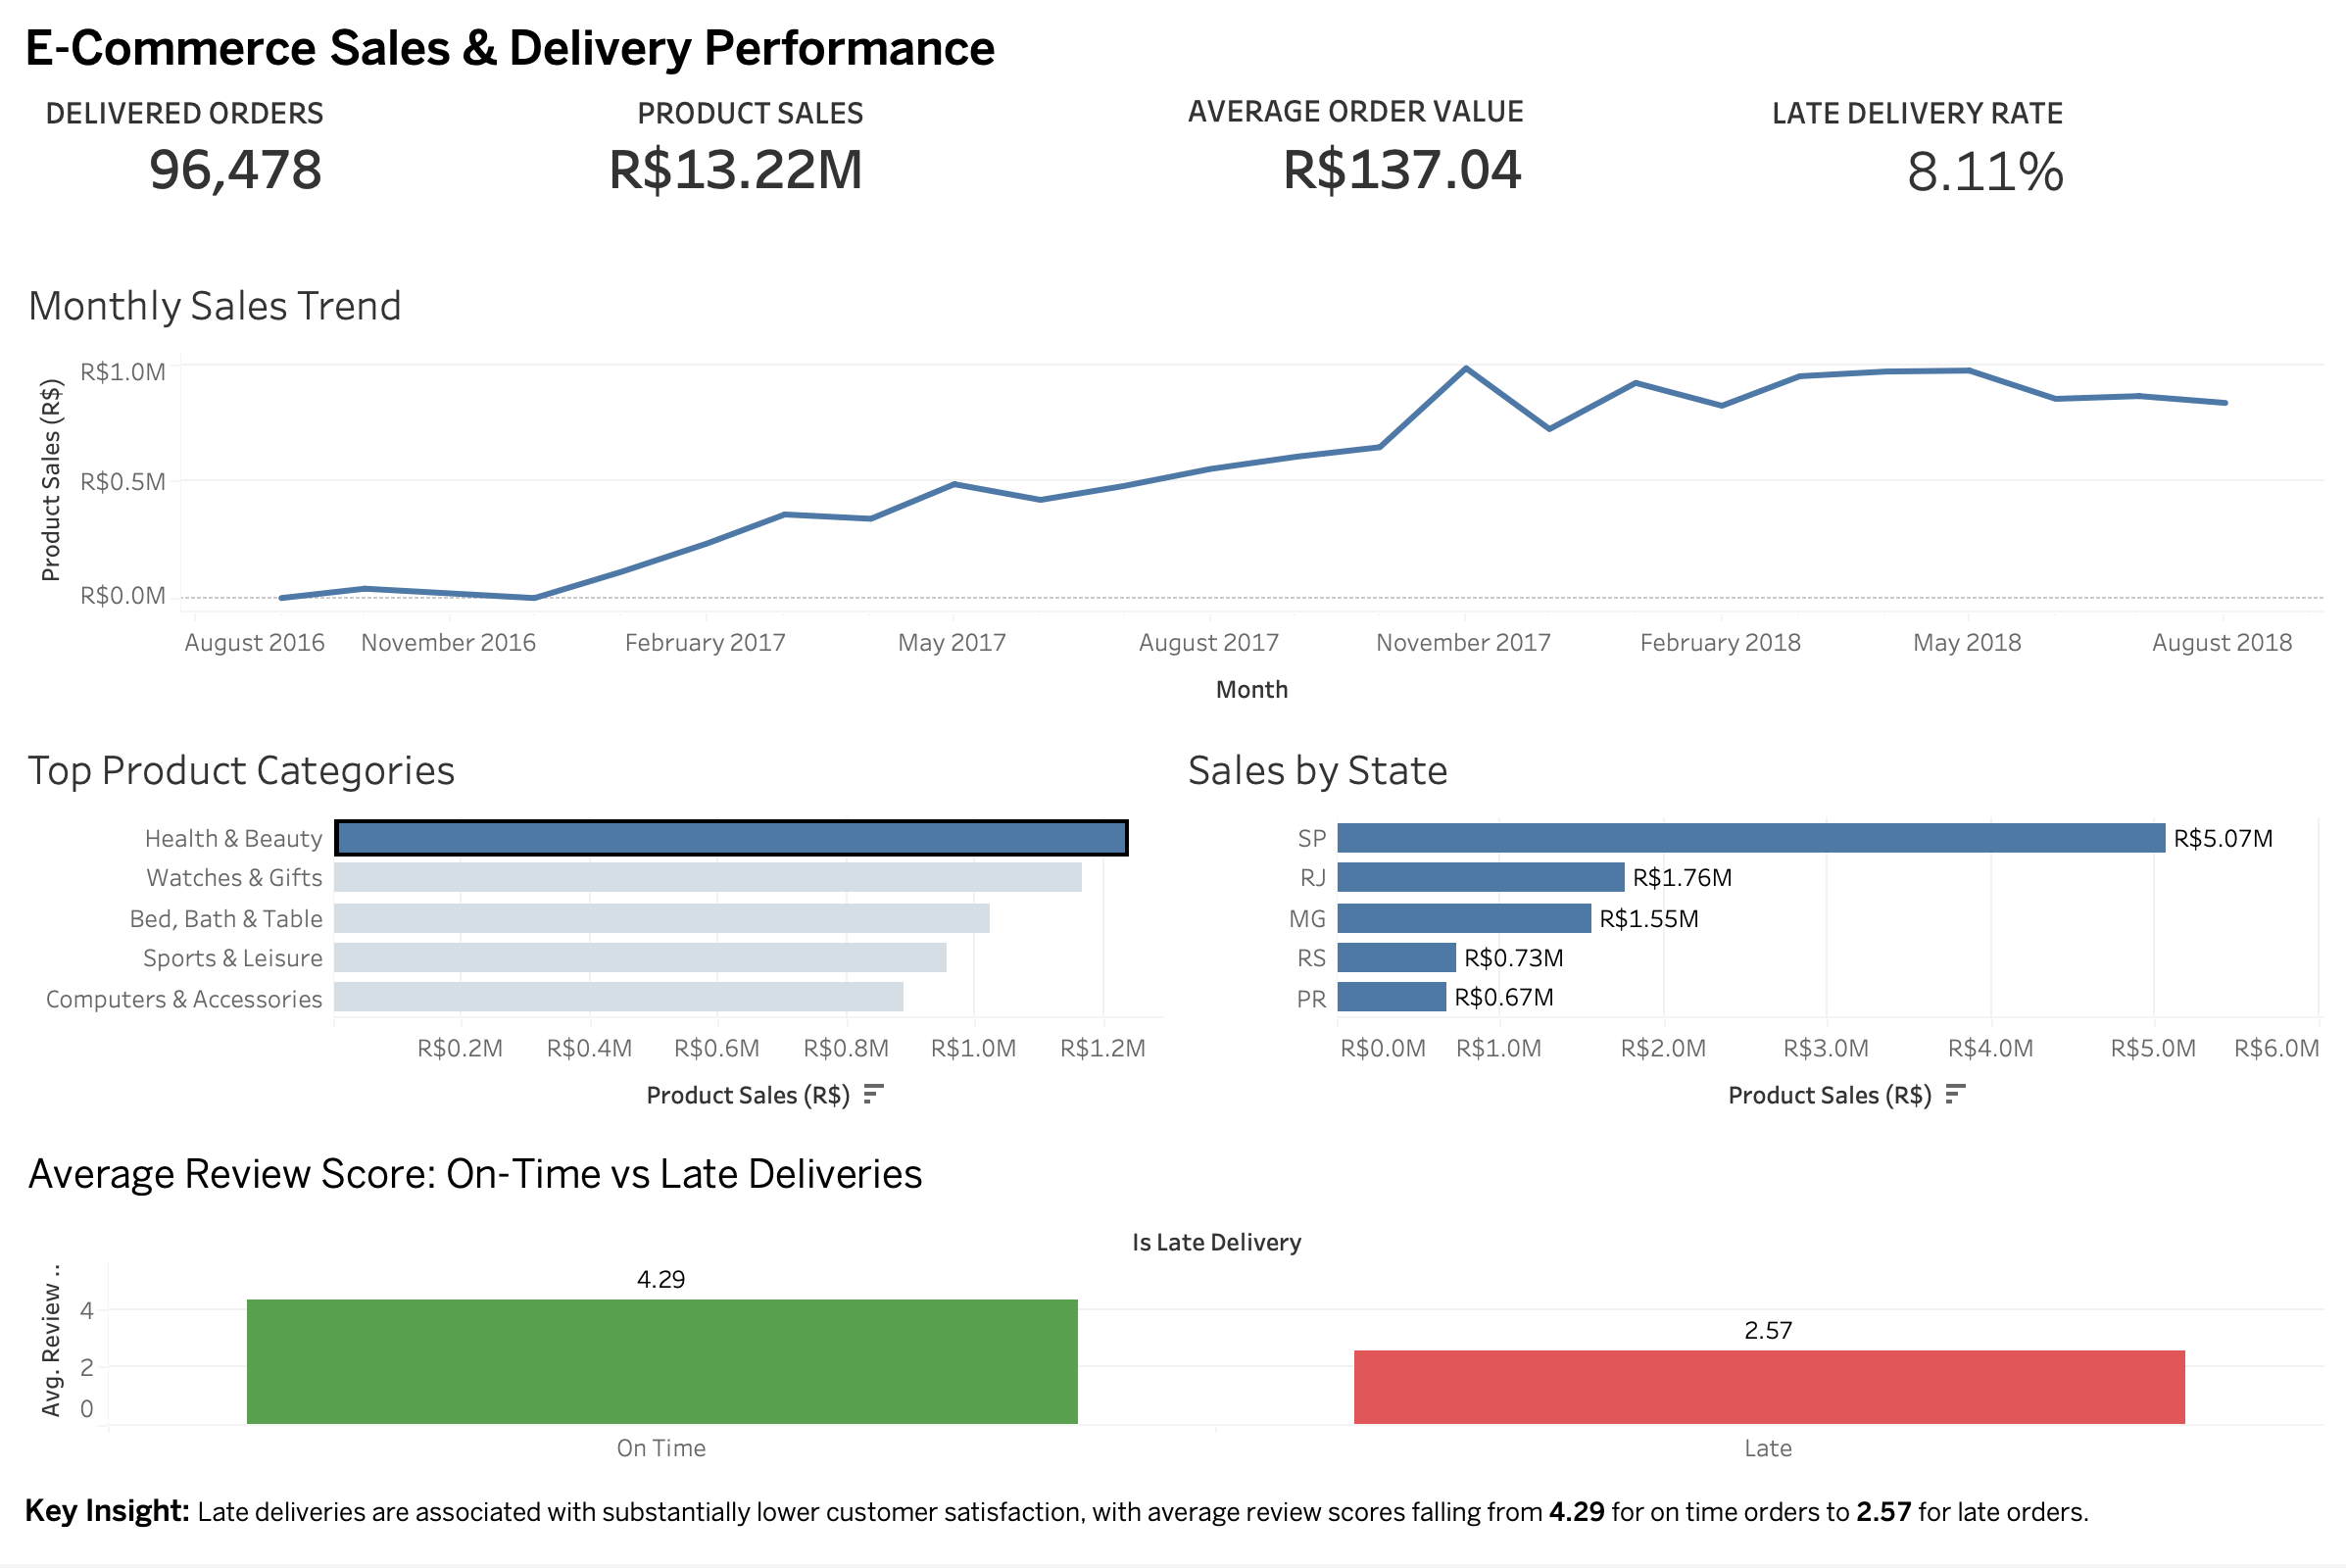

What the dashboard file says about the page in this screenshot:
{"tool":"tableau","page":{"name":"E-Commerce Performance Dashboard","canvas":[1200,800],"ordinal":0},"visuals":[{"type":"title","box":[8,8,1184,37]},{"type":"worksheet","title":"KPI - DELIVERED ORDERS","mark":"Automatic","box":[8,45,296,90]},{"type":"worksheet","title":"KPI - PRODUCT SALES","mark":"Automatic","box":[304,45,296,90]},{"type":"worksheet","title":"KPI - AOV","mark":"Automatic","box":[600,45,296,90]},{"type":"worksheet","title":"KPI - Late Delivery Rate","mark":"Automatic","box":[896,45,296,90]},{"type":"worksheet","title":"Monthly Sales Trend","mark":"Automatic","rows":["price"],"cols":["order_purchase_timestamp"],"box":[8,134.5,1184,237.8]},{"type":"worksheet","title":"Top Product Categories","mark":"Automatic","rows":["product_category_name_english"],"cols":["price"],"box":[8,372.4,592,208]},{"type":"worksheet","title":"Sales by State","mark":"Automatic","rows":["customer_state"],"cols":["price"],"box":[600,372.4,592,208]},{"type":"worksheet","title":"Delivery vs Review Score","mark":"Automatic","rows":["review_score"],"cols":["is_late_delivery"],"box":[8,580.3,1184,173.7]},{"type":"text","box":[8,754,1184,38]}]}

Visuals, with their boxes in screenshot pixels (x1, y1, x2, y2), scaled from the page's 1200x800 canvas onto the 2346x1568 screenshot:
title: <region>16, 16, 2330, 88</region>
"KPI - DELIVERED ORDERS" worksheet: <region>16, 88, 594, 265</region>
"KPI - PRODUCT SALES" worksheet: <region>594, 88, 1173, 265</region>
"KPI - AOV" worksheet: <region>1173, 88, 1752, 265</region>
"KPI - Late Delivery Rate" worksheet: <region>1752, 88, 2330, 265</region>
"Monthly Sales Trend" worksheet: <region>16, 264, 2330, 730</region>
"Top Product Categories" worksheet: <region>16, 730, 1173, 1138</region>
"Sales by State" worksheet: <region>1173, 730, 2330, 1138</region>
"Delivery vs Review Score" worksheet: <region>16, 1138, 2330, 1478</region>
text: <region>16, 1478, 2330, 1552</region>
